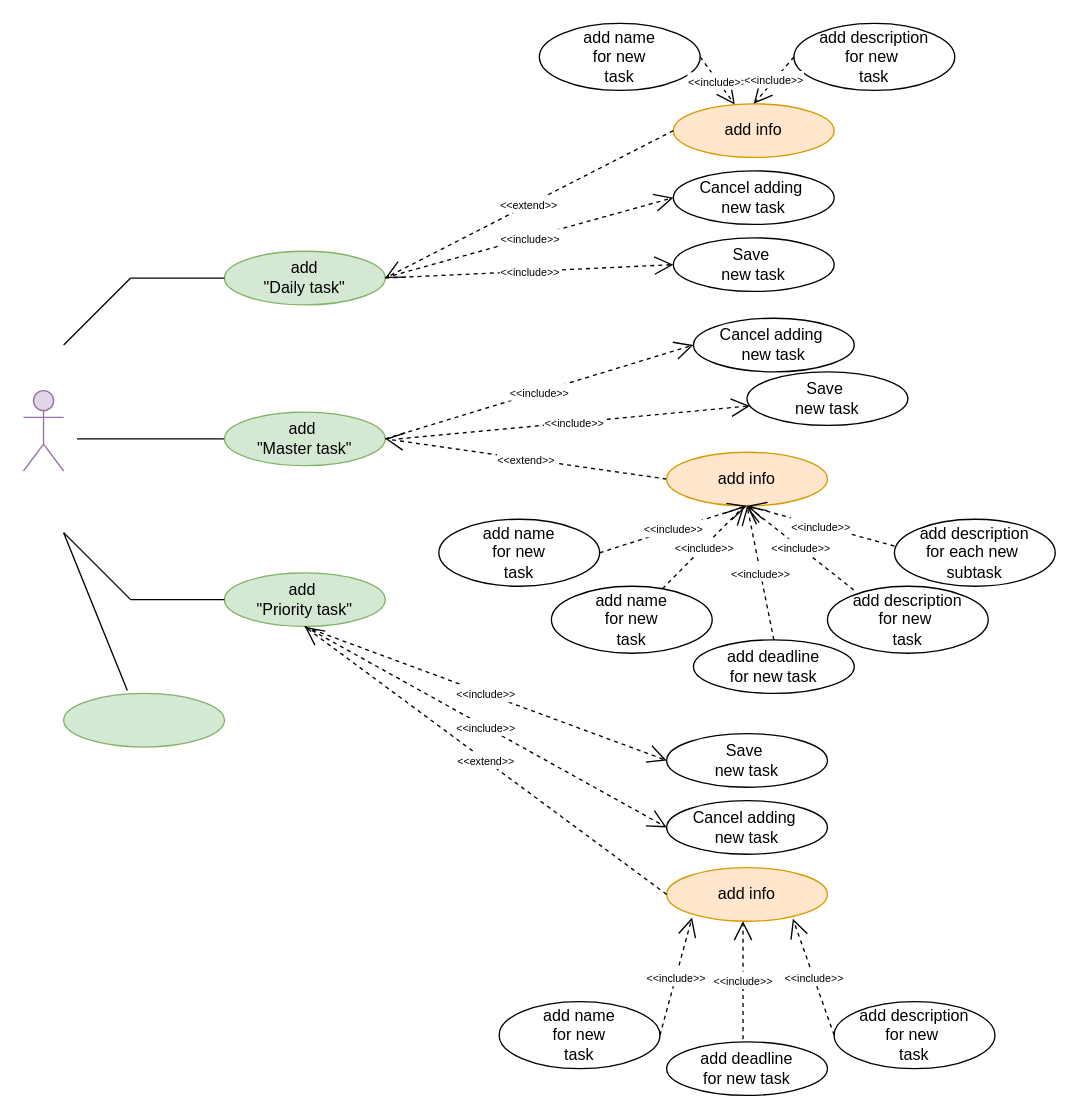
The diagram is 1079 pixels wide and 1119 high, and some of its shapes have lost their labels. The centre of each missing label's shape, as x and y in pixels:
"remove task" goes at (x=143, y=719).
"User" goes at (x=43, y=430).
